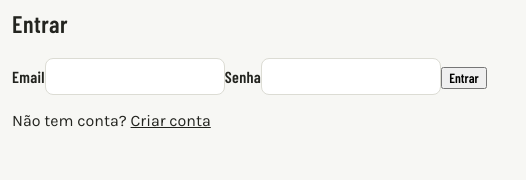
Scenario: Login › limpa mensagem de erro anterior ao iniciar um novo envio
The image size is (526, 180).
Type "a@b.com" into the field labelled "Email".
click(135, 76); type("a@b.com")  # box top-left (45, 58), bottom-right (225, 95)
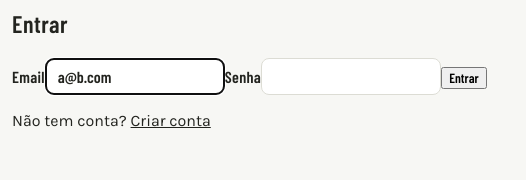
Type "errada" into the password field labelled "Senha".
click(351, 76); type("errada")  # box top-left (261, 58), bottom-right (441, 95)
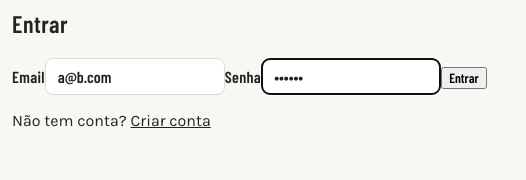
Click the button "Entrar".
click(464, 78)  # box top-left (441, 67), bottom-right (487, 89)
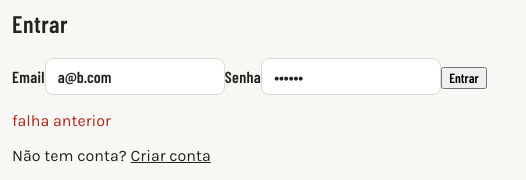
Expected: the message reads "falha anterior", top-left (12, 111), bottom-right (111, 130)
Click the button "Entrar".
click(464, 78)  # box top-left (441, 67), bottom-right (487, 89)
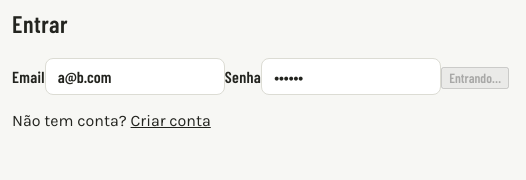
Expected: the message "falha anterior" is gone
